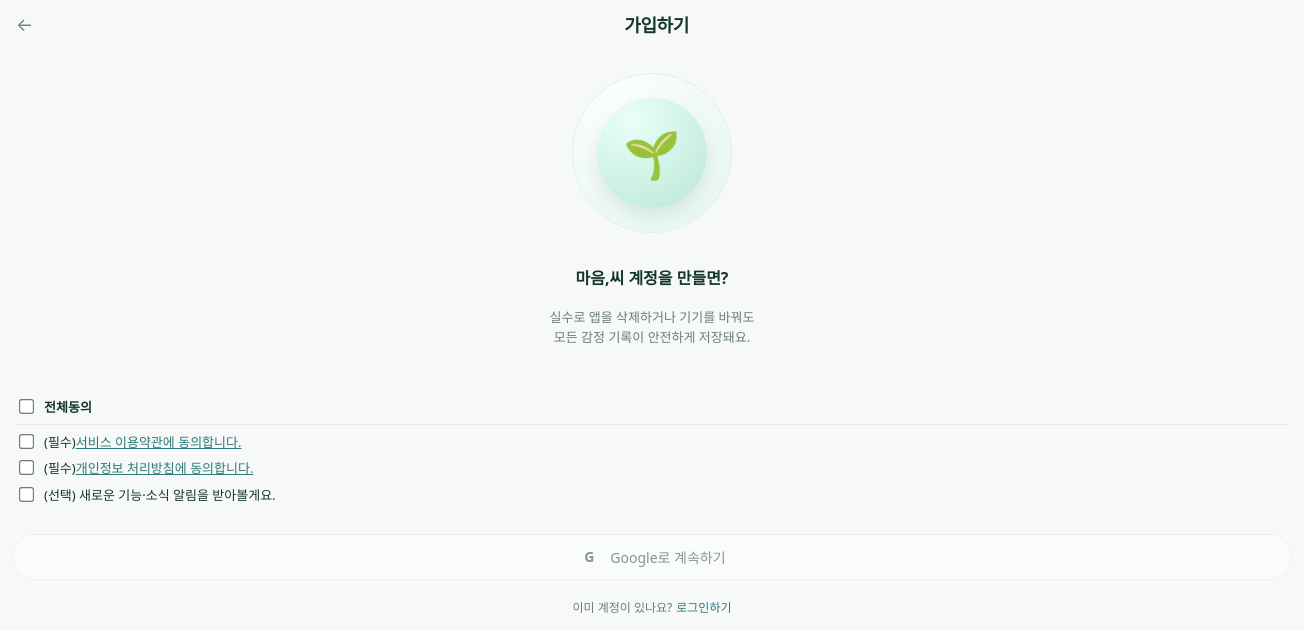
Test: SignupOnboardingStep › 회원약관 모달 › 전체동의 선택 시 모든 체크박스가 선택되어야 함
Expected: the 2nd checkbox is not checked, [19,434,34,449]
Expected: the 3rd checkbox is not checked, [19,460,34,476]
Click the checkbox labelled "전체동의". click: (26, 407)
box: [19,399,34,414]
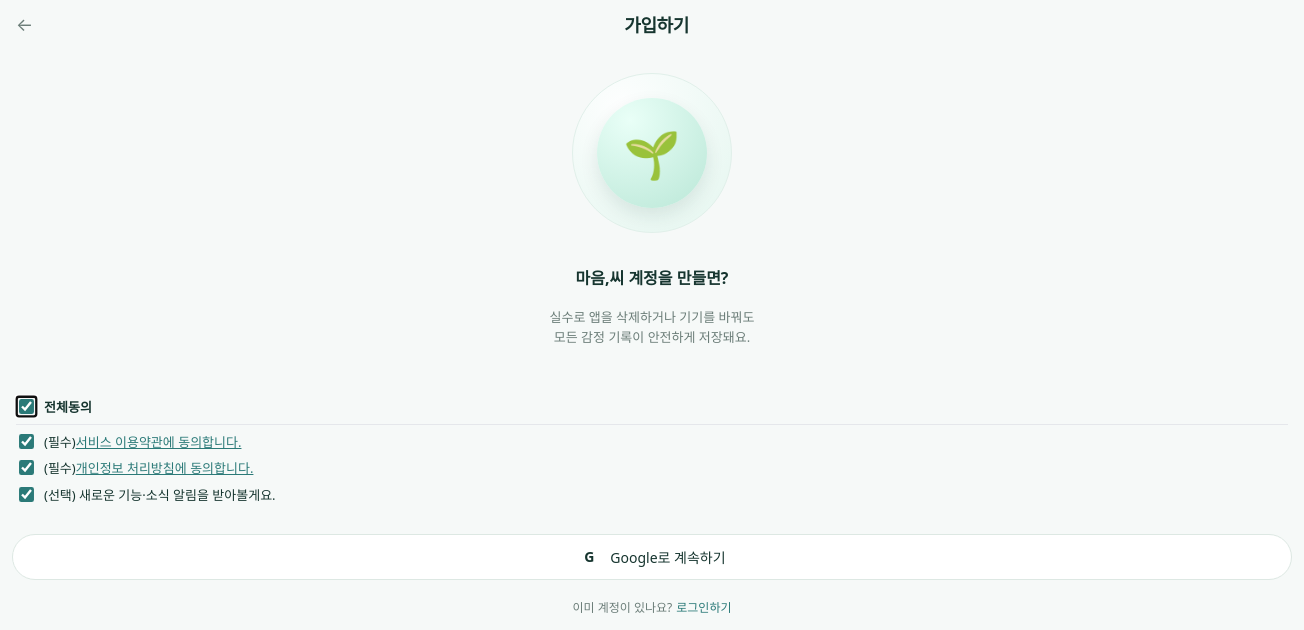
Result: the checkbox labelled "전체동의" is checked at [19,399,34,414]
Result: the 2nd checkbox is checked at [19,434,34,449]
Result: the 3rd checkbox is checked at [19,460,34,476]
